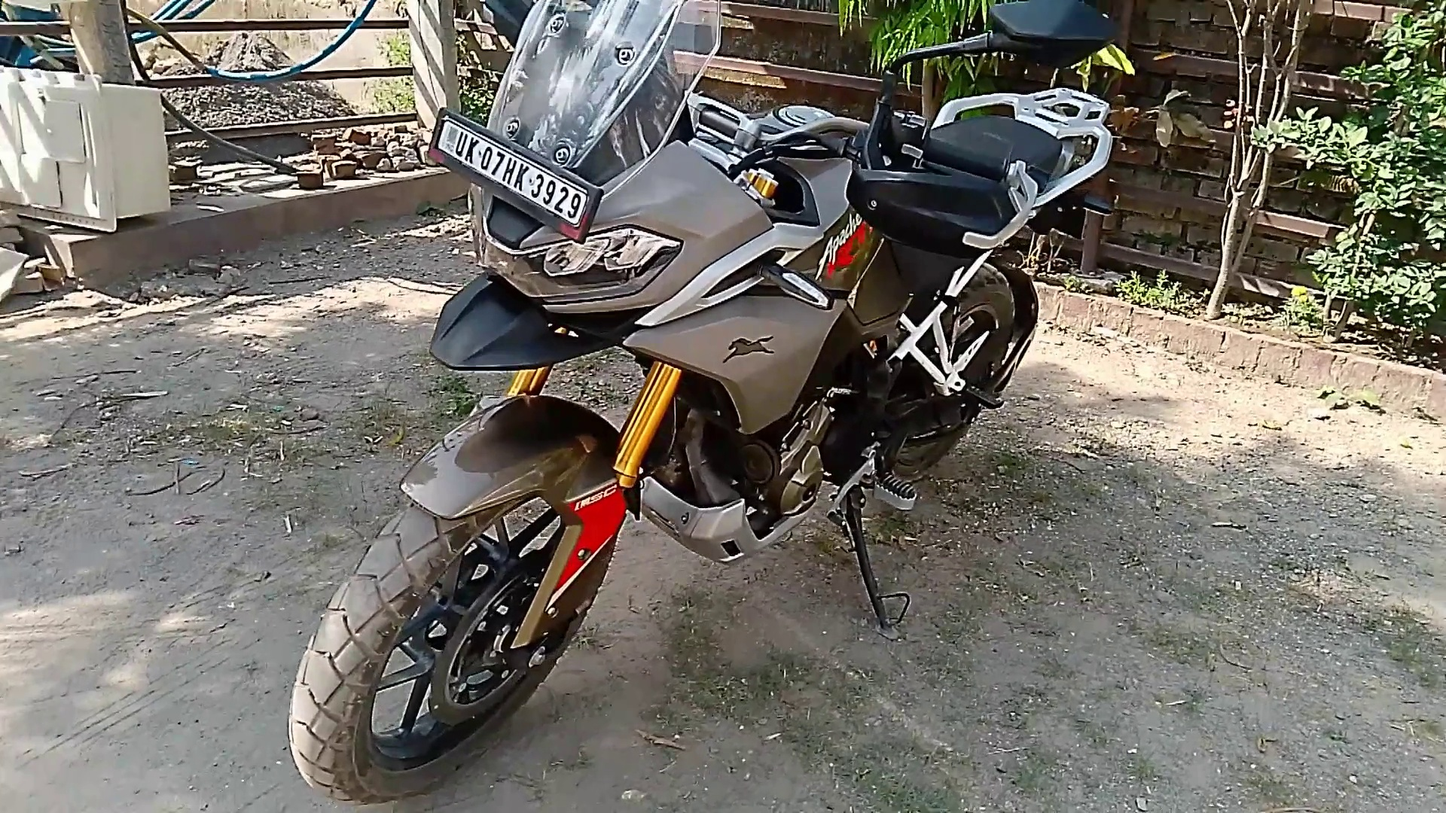engine: (751, 384, 847, 531)
